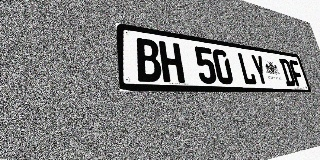0: (211, 48, 234, 84)
5: (194, 46, 218, 84)
B: (134, 37, 163, 82)
D: (279, 58, 296, 86)
F: (288, 60, 305, 87)
H: (158, 41, 185, 83)
L: (236, 52, 257, 85)
Y: (250, 54, 270, 86)
